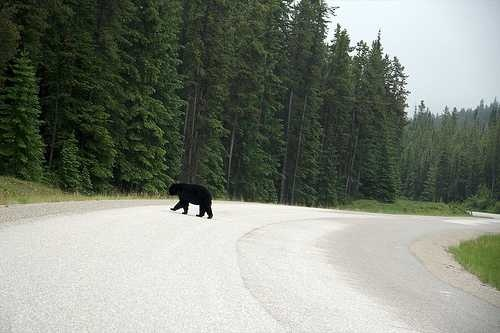bear: (125, 138, 253, 266)
